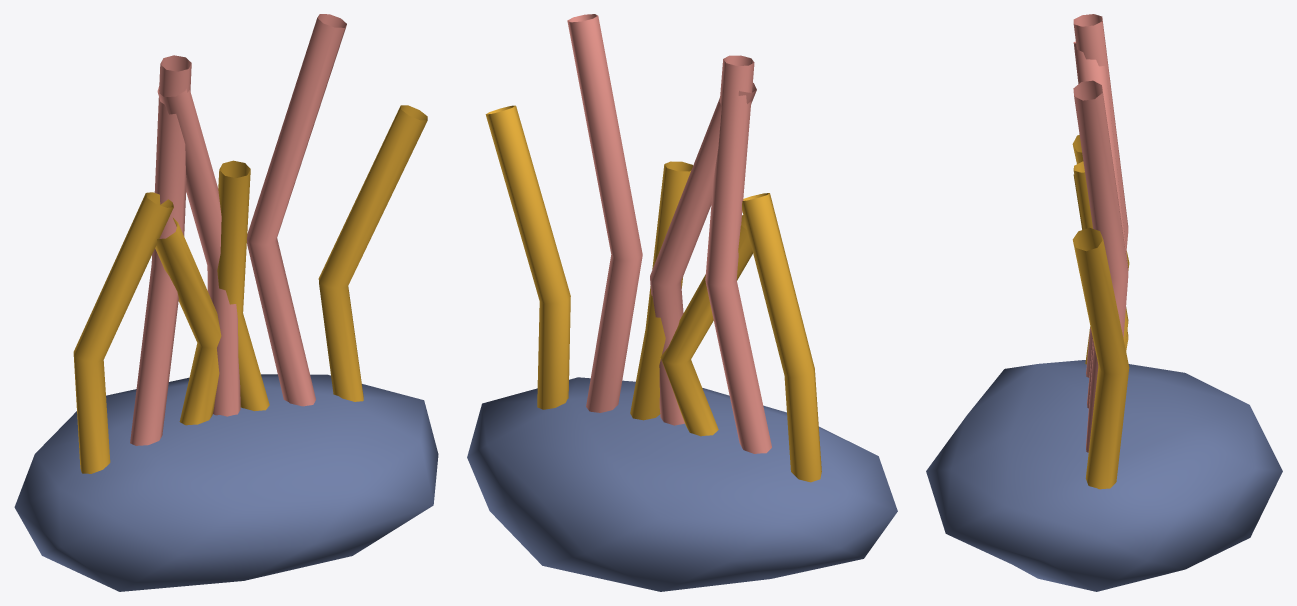
File: r003_reef_coral_mass_placement_coral_05.glb
3 views of the same model, side by side, from view 1: azimuth 30°, elevation 25°; view 2: azimuth 150°, elevation 25°; view 3: azimuth 270°, elevation 25° (orthographic). The views are drawn at different scales.
Parts seen in each view (by area): view 1: r003_reef_coral_mass_placement_coral_05.001; view 2: r003_reef_coral_mass_placement_coral_05.001; view 3: r003_reef_coral_mass_placement_coral_05.001.
Boxes of the visible parts, box(x1,y1,x2,y2) form: r003_reef_coral_mass_placement_coral_05.001: box(14, 14, 438, 591); r003_reef_coral_mass_placement_coral_05.001: box(467, 14, 897, 591); r003_reef_coral_mass_placement_coral_05.001: box(926, 14, 1282, 591).
Size of the model in its own units: 2.55 by 3.22 by 2.07.
